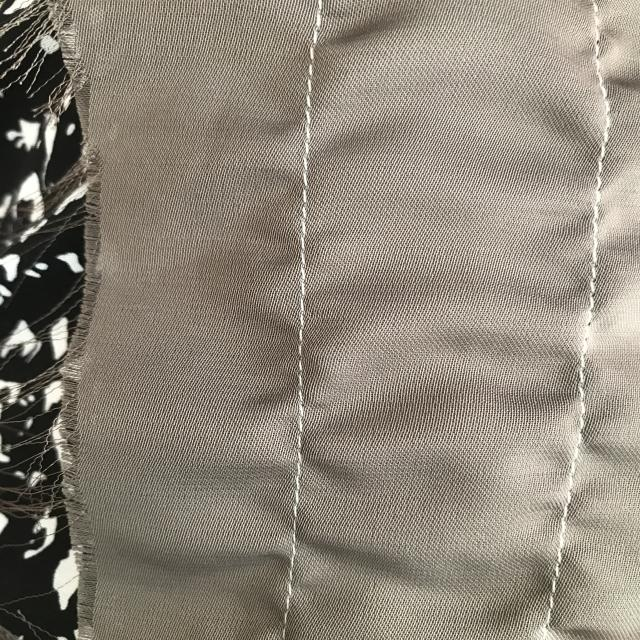good: (286, 37, 329, 169), (577, 183, 614, 265), (278, 433, 314, 508), (296, 214, 318, 328), (282, 538, 304, 612)
